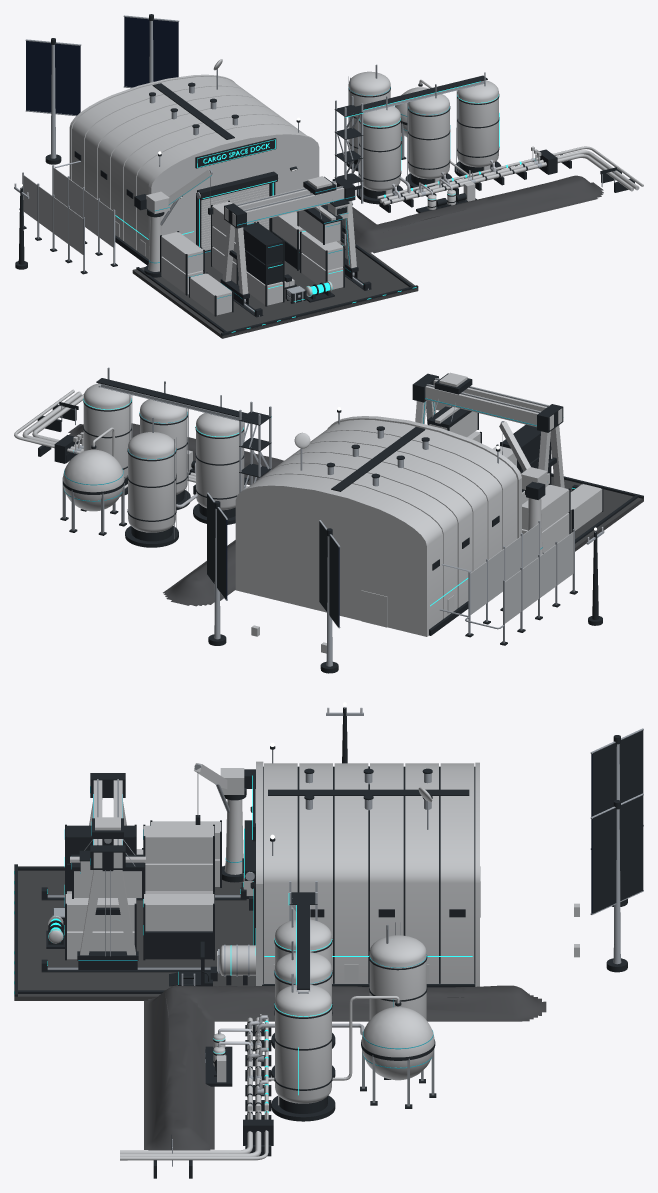
Rendered from dock_tankfarm_game.glb.
The picture shows the model from 3 angles, top to bottom: view 1: azimuth 30°, elevation 25°; view 2: azimuth 150°, elevation 25°; view 3: azimuth 270°, elevation 25°; orthographic projection. The views are drawn at different scales.
Parts seen in each view (by area): view 1: Base_Paint, Tier_20, Crane_Gantry, Base_Metal, Tier_05, Tier_03, Tier_08, Base_GlowCyan, Dock_Door, Tier_12; view 2: Base_Paint, Tier_20, Crane_Gantry, Base_Metal, Tier_12, Tier_05, Tier_08, Tier_03; view 3: Base_Paint, Crane_Gantry, Tier_03, Tier_12, Tier_20, Base_Metal, Tier_08, Tier_05, Base_GlowCyan.
Boxes of the visible parts, box(x1,y1,x2,y2) form: Base_Paint: box(15, 14, 643, 338); Tier_20: box(19, 64, 410, 316); Crane_Gantry: box(220, 176, 358, 305); Base_Metal: box(14, 15, 614, 316); Tier_05: box(405, 84, 452, 190); Tier_03: box(211, 200, 344, 271); Tier_08: box(134, 169, 213, 277); Base_GlowCyan: box(115, 81, 535, 332); Dock_Door: box(201, 184, 269, 252); Tier_12: box(394, 79, 468, 174); Base_Paint: box(14, 378, 643, 673); Tier_20: box(125, 417, 603, 645); Crane_Gantry: box(412, 372, 564, 487); Base_Metal: box(61, 367, 604, 666); Tier_12: box(60, 427, 127, 535); Tier_05: box(139, 381, 190, 509); Tier_08: box(499, 421, 547, 555); Tier_03: box(467, 424, 551, 470); Base_Paint: box(14, 707, 643, 1178); Crane_Gantry: box(70, 773, 145, 969); Tier_03: box(64, 824, 214, 932); Tier_12: box(268, 996, 436, 1108); Tier_20: box(136, 766, 427, 1036); Base_Metal: box(47, 707, 643, 1166); Tier_08: box(194, 763, 255, 882); Tier_05: box(248, 941, 335, 1081); Base_GlowCyan: box(14, 775, 472, 1113).
Size of the model in its own units: 72.75 by 16.89 by 53.19.
